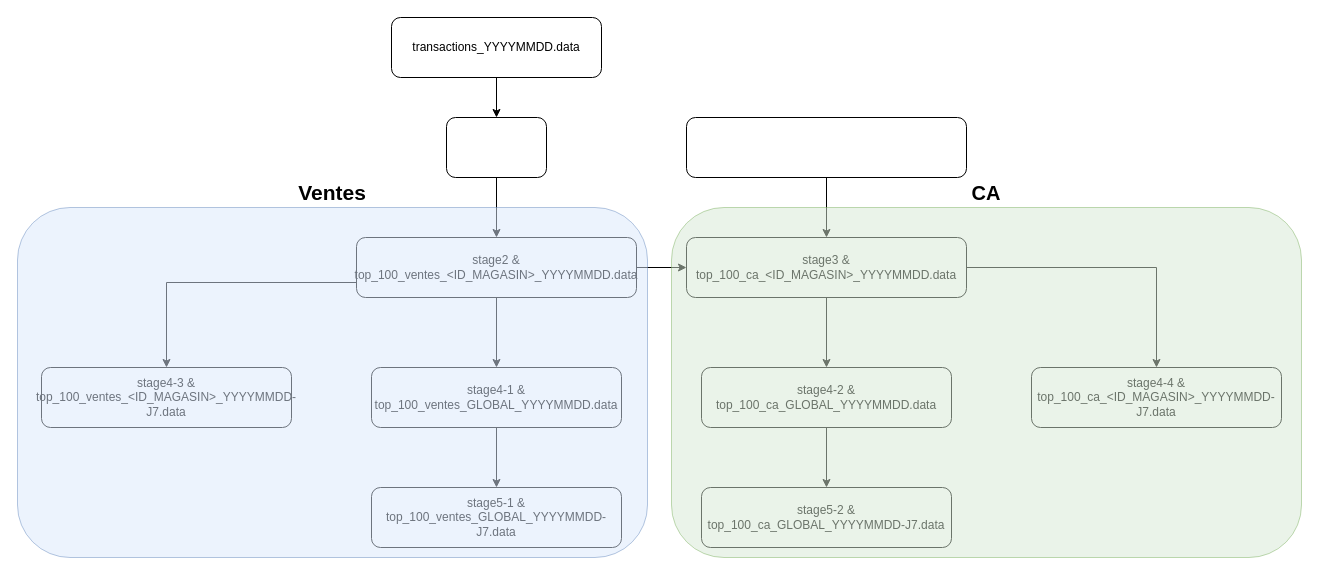
Image size: 1319x575. Some labels were removed from this diagram. Each missing label, with the centre of its shape:
"reference_prod-ID_MAGASIN_YYYYMMDD.data" goes at (826,147).
"stage1" goes at (496,147).
